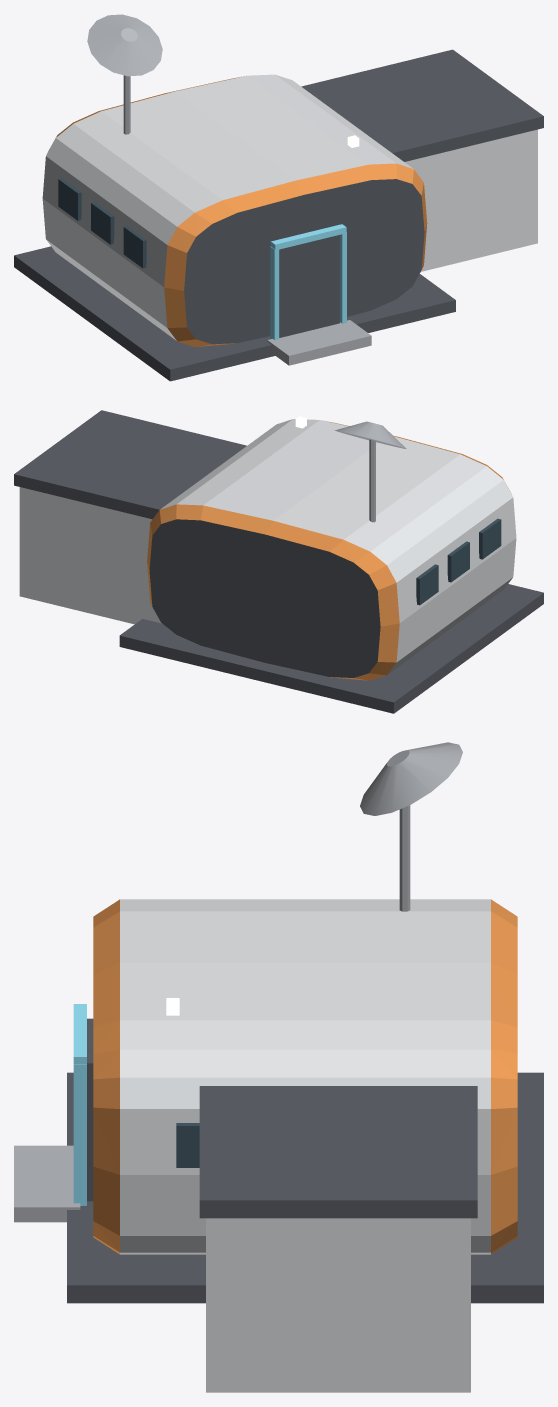
The model's file is outpost.fbx.
The picture shows the model from 3 angles, top to bottom: view 1: azimuth 30°, elevation 25°; view 2: azimuth 150°, elevation 25°; view 3: azimuth 270°, elevation 25°; orthographic projection. The views are drawn at different scales.
Parts seen in each view (by area): view 1: Body; view 2: Body; view 3: Body.
Boxes of the visible parts, left/top/right/bottom form: Body: left=14, top=14, right=543, bottom=381; Body: left=14, top=410, right=543, bottom=713; Body: left=14, top=742, right=543, bottom=1392.
Size of the model in its own units: 11.1 by 6.48 by 8.
